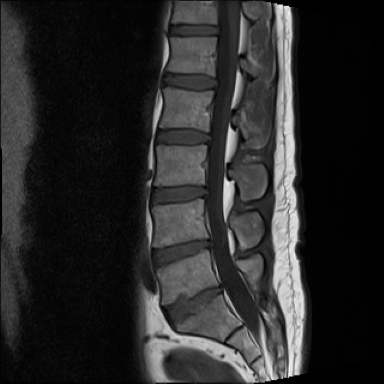Degenerative Disc Disease (DDD): (163, 281, 230, 330)
Lumbar Disc Bulge (LDB): (155, 278, 230, 336), (145, 230, 222, 274), (143, 179, 215, 211)
Normal IVD: (154, 67, 222, 93), (147, 122, 216, 147), (162, 20, 222, 40)
Spinal Stenosis (SS): (196, 177, 218, 206), (200, 232, 220, 254), (212, 277, 227, 300)
